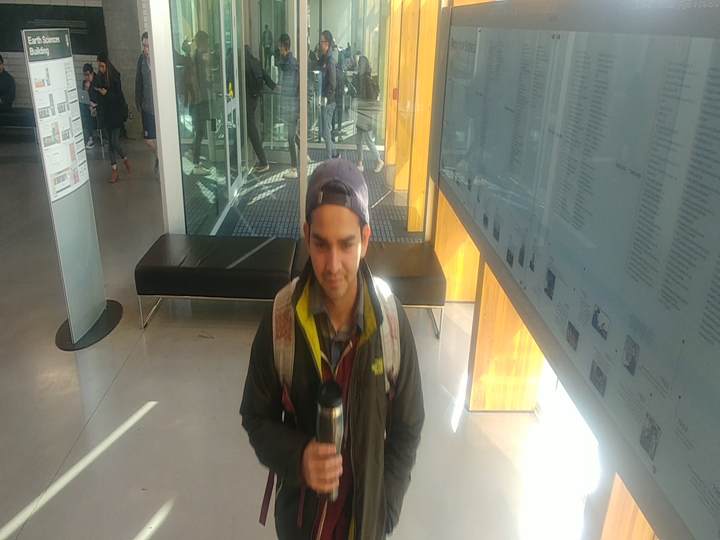face: (292, 157, 383, 304), (90, 46, 119, 78), (314, 24, 340, 59), (274, 24, 298, 59), (351, 48, 377, 78), (79, 62, 100, 84)
human: (234, 153, 435, 540), (89, 45, 134, 188), (268, 31, 301, 181), (313, 26, 349, 159), (353, 48, 385, 176)
